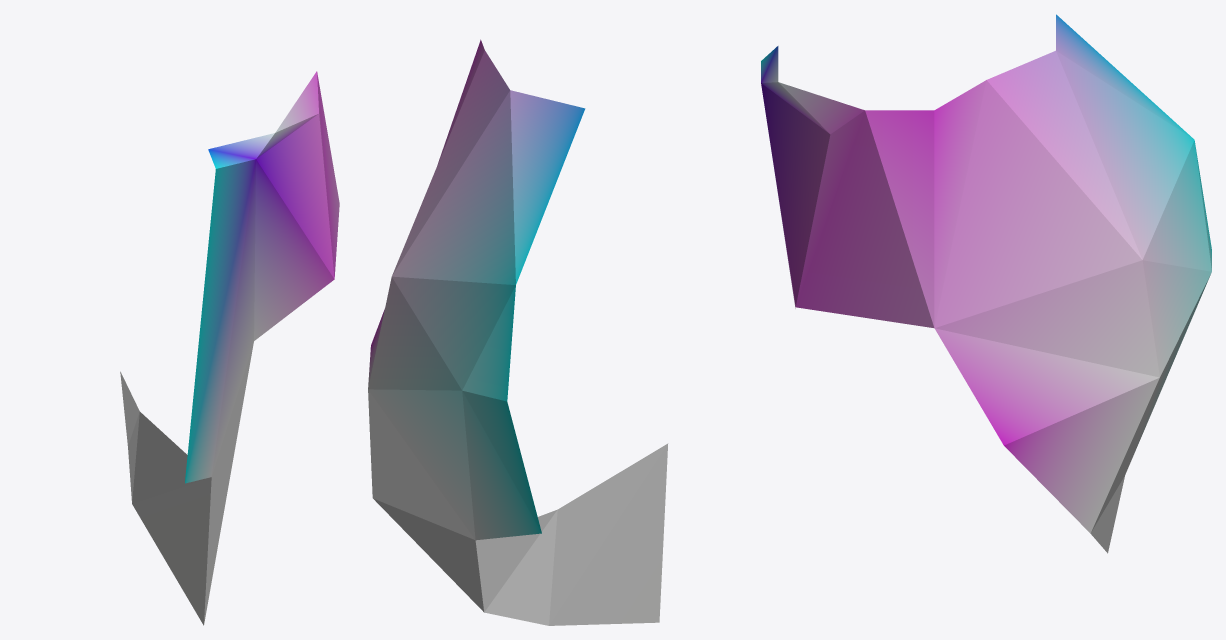
The picture shows the model from 3 angles, left to right: view 1: azimuth 30°, elevation 25°; view 2: azimuth 150°, elevation 25°; view 3: azimuth 270°, elevation 25°; orthographic projection. The views are drawn at different scales.
Parts seen in each view (by area): view 1: model_119A; view 2: model_119A; view 3: model_119A.
Boxes of the visible parts, x1,y1,x2,y2 form: model_119A: (120,71,339,625); model_119A: (368,39,668,625); model_119A: (761,14,1211,553).
Bounding box in the file's own units: 16 × 38 × 26.
